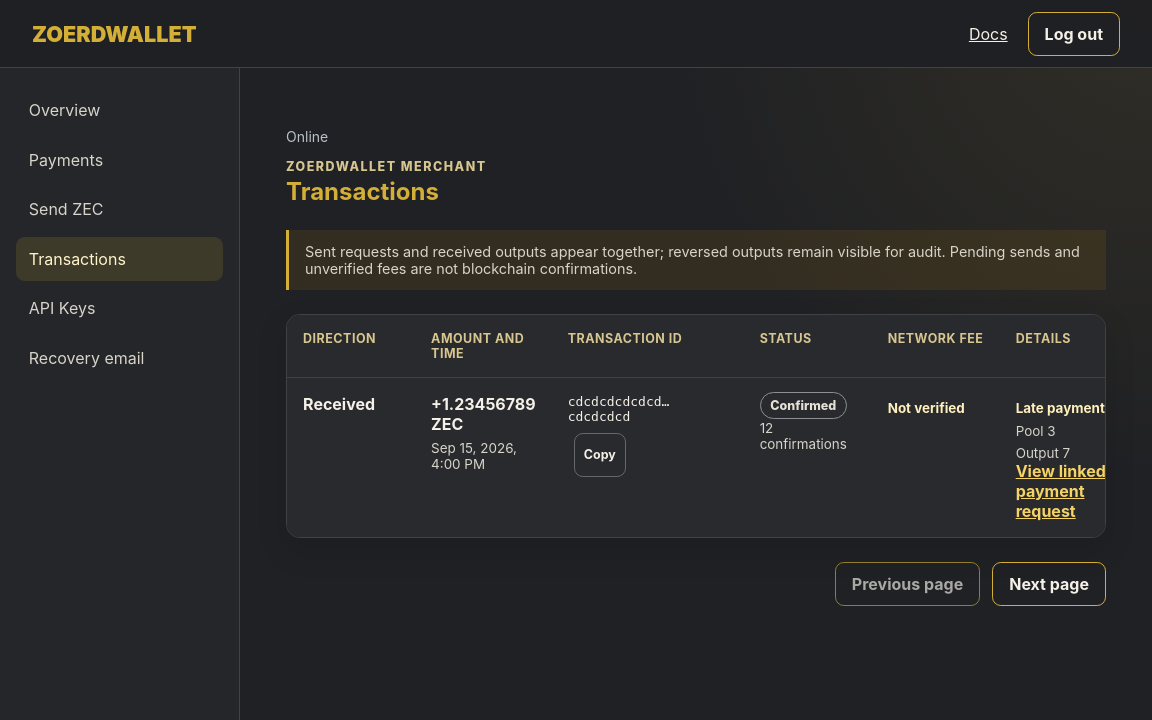
transactions page › returns from a failed next page to the last successful page
Click the button "Next page".
click(1049, 584)  # box [992, 562, 1106, 606]
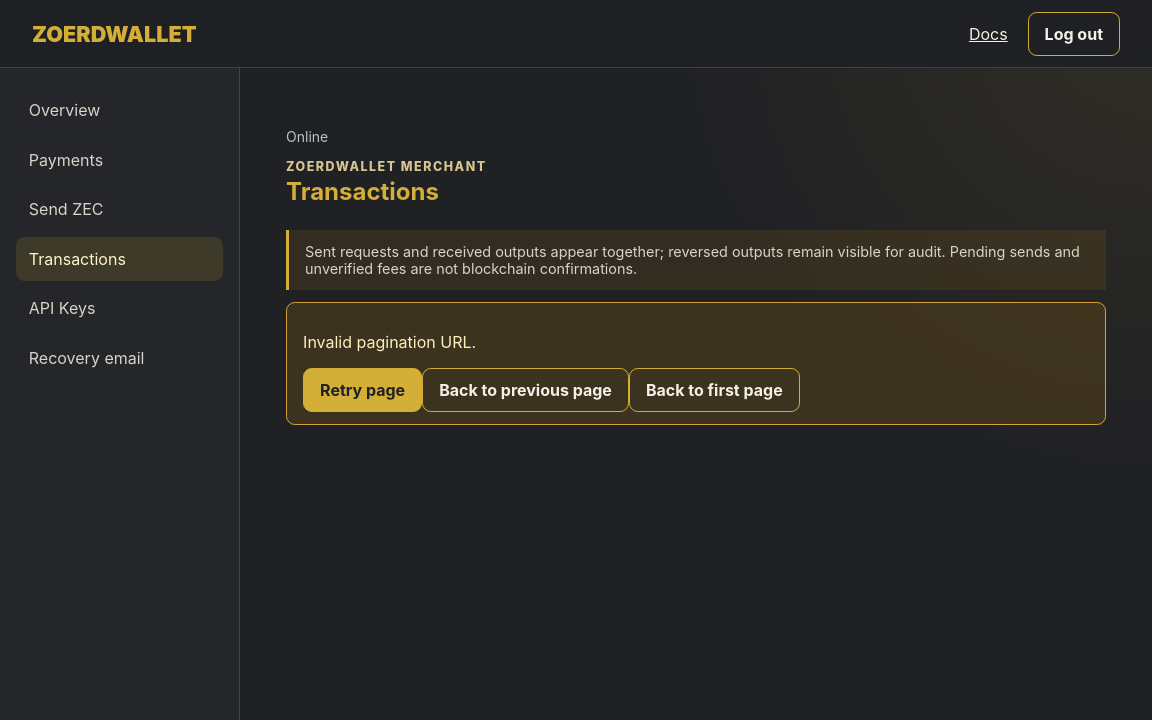
Check: the message "Invalid pagination URL. Retry page Back to previous page Back to first page" is shown, box [286, 302, 1106, 426]
Click the button "Back to previous page".
click(526, 390)  # box [422, 368, 629, 412]
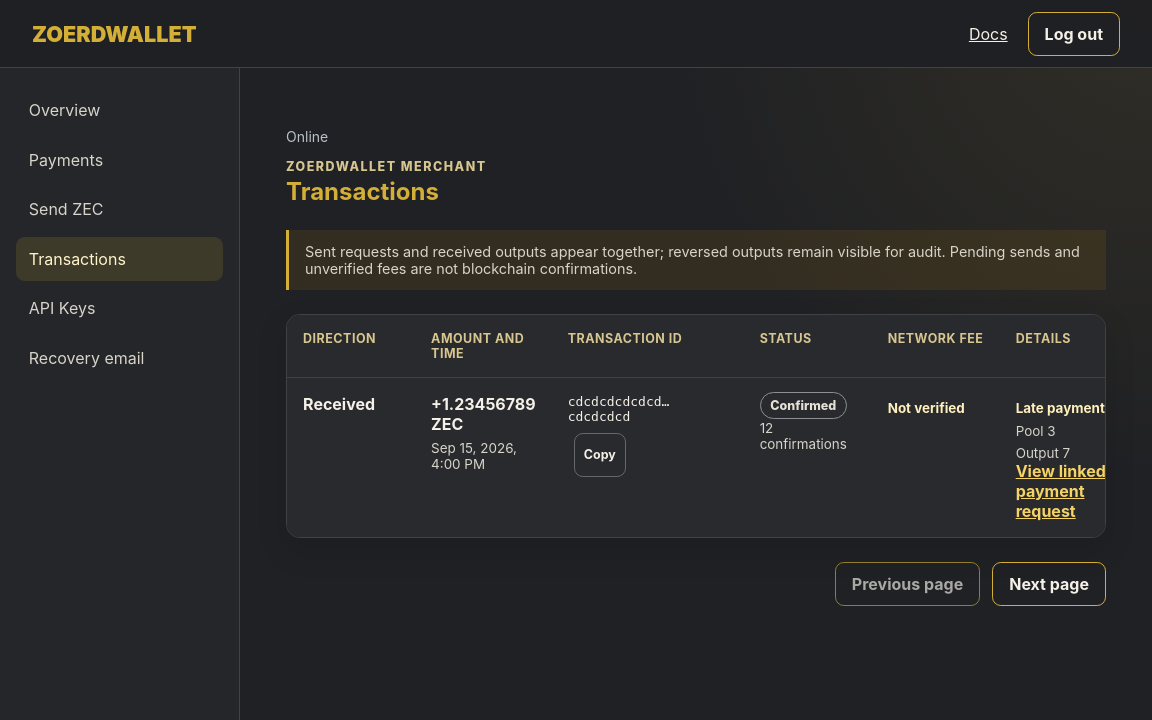
Check: the text "12 confirmations" is shown, box [760, 420, 856, 452]
Check: the button "Next page" is shown, box [992, 562, 1106, 606]
